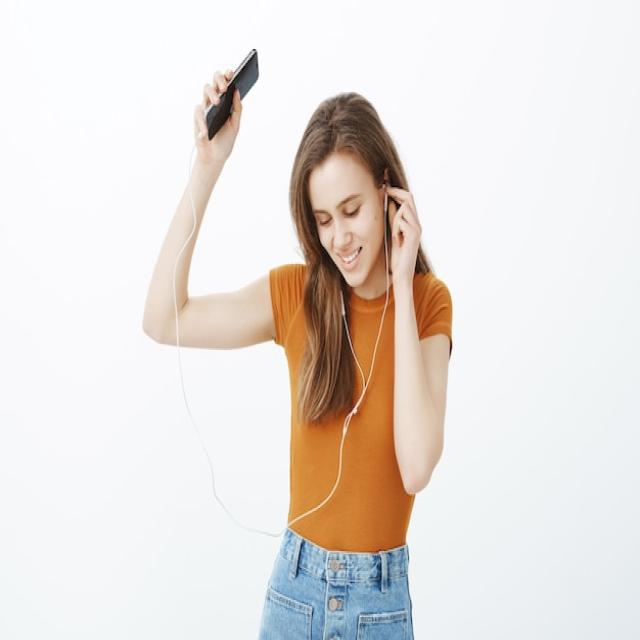Earphone: (171, 183, 391, 538)
